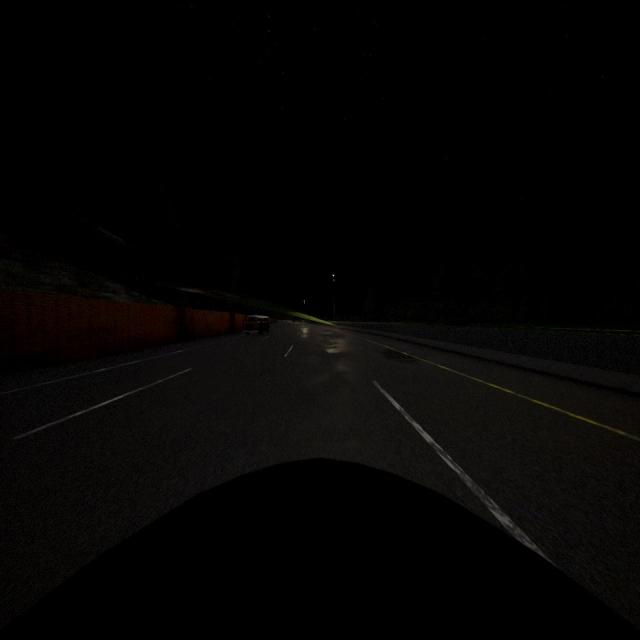Vehicle: (0, 460, 640, 640), (242, 316, 270, 334)
